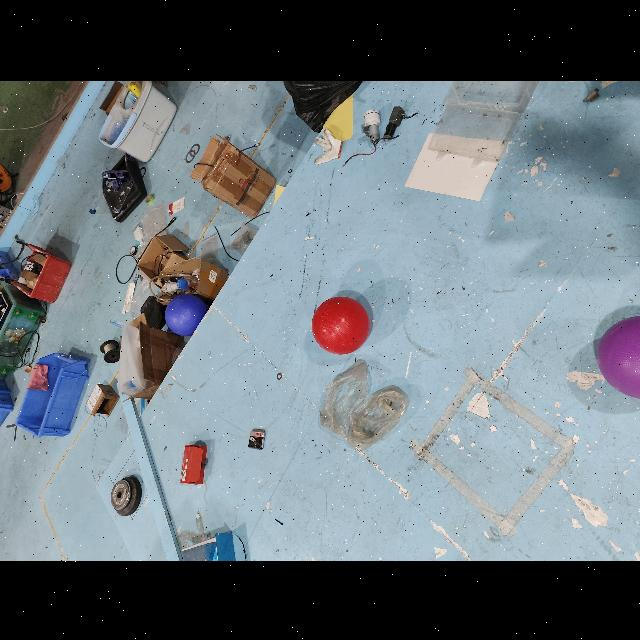B: (164, 288, 214, 339)
P: (594, 313, 640, 399)
R: (310, 292, 372, 354)
